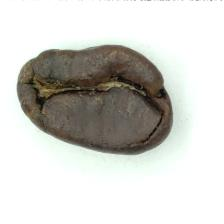NG: (36, 49, 164, 148)
